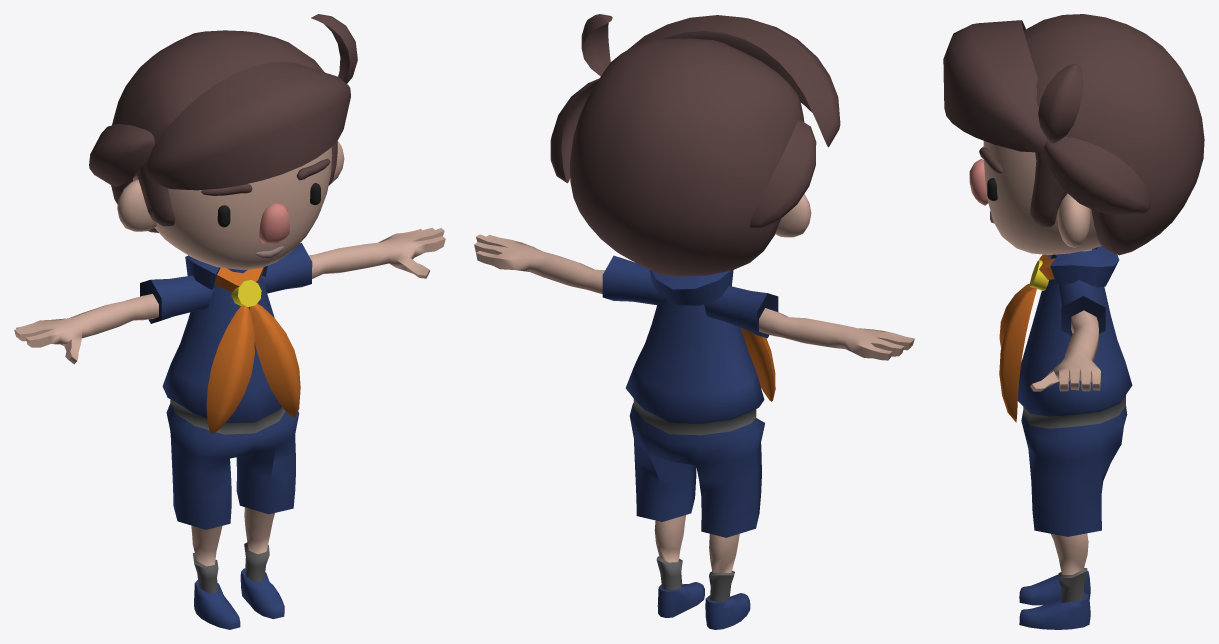
Rendered from Gus.fbx.
3 views of the same model, side by side, from view 1: azimuth 30°, elevation 25°; view 2: azimuth 150°, elevation 25°; view 3: azimuth 270°, elevation 25° (orthographic). The views are drawn at different scales.
Parts seen in each view (by area): view 1: Connect; view 2: Connect; view 3: Connect.
Boxes of the visible parts, x1,y1,x2,y2 form: Connect: [14, 14, 445, 629]; Connect: [474, 14, 914, 629]; Connect: [943, 14, 1204, 629].
Size of the model in its own units: 102 by 130 by 52.07.
1 material, 1 textured.
